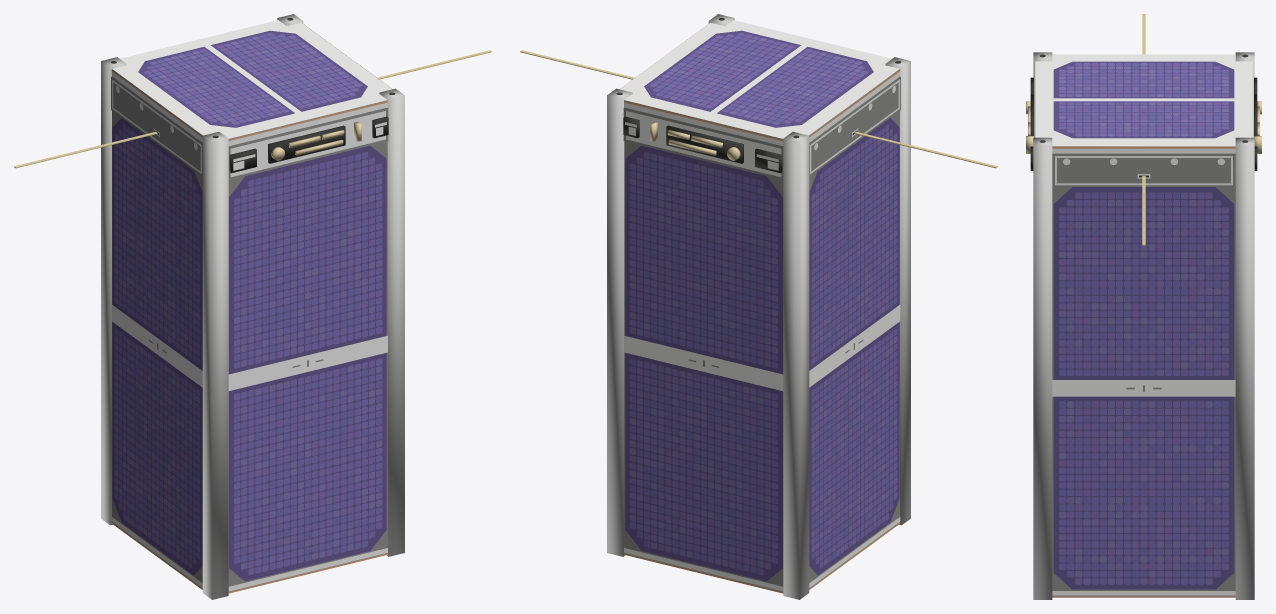
The model's file is 2U_CubeSat.glb.
The picture shows the model from 3 angles, left to right: view 1: azimuth 30°, elevation 25°; view 2: azimuth 150°, elevation 25°; view 3: azimuth 270°, elevation 25°; orthographic projection.
Parts seen in each view (by area): view 1: Face -Y, Face -X, Top end, Corner rail, Corner rail.002, Corner rail.001, Black connector block -Y 2; view 2: Face +Y, Face -X, Top end, Corner rail.001, Corner rail.003, Corner rail, Black connector block +Y 2; view 3: Face +X, Top end, Corner rail.002, Corner rail.003, Corner rail, Corner rail.001.
Boxes of the visible parts, bbox=[...] form: Face -Y: bbox=[228, 100, 388, 593]; Face -X: bbox=[111, 69, 202, 589]; Top end: bbox=[112, 20, 391, 138]; Corner rail: bbox=[202, 131, 228, 599]; Corner rail.002: bbox=[379, 88, 404, 556]; Corner rail.001: bbox=[101, 57, 126, 525]; Black connector block -Y 2: bbox=[268, 125, 345, 163]; Face +Y: bbox=[623, 100, 783, 593]; Face -X: bbox=[809, 69, 900, 589]; Top end: bbox=[620, 20, 899, 138]; Corner rail.001: bbox=[783, 131, 809, 599]; Corner rail.003: bbox=[607, 88, 632, 556]; Corner rail: bbox=[885, 57, 910, 525]; Black connector block +Y 2: bbox=[666, 125, 743, 163]; Face +X: bbox=[1052, 146, 1235, 597]; Top end: bbox=[1035, 54, 1252, 146]; Corner rail.002: bbox=[1033, 137, 1052, 599]; Corner rail.003: bbox=[1235, 137, 1254, 599]; Corner rail: bbox=[1033, 52, 1052, 137]; Corner rail.001: bbox=[1235, 52, 1254, 137].
Size of the model in its own units: 0.2468 by 0.2268 by 0.1066.
